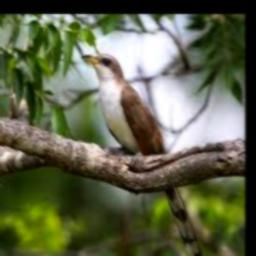Cuckoo: (80, 53, 202, 256)
